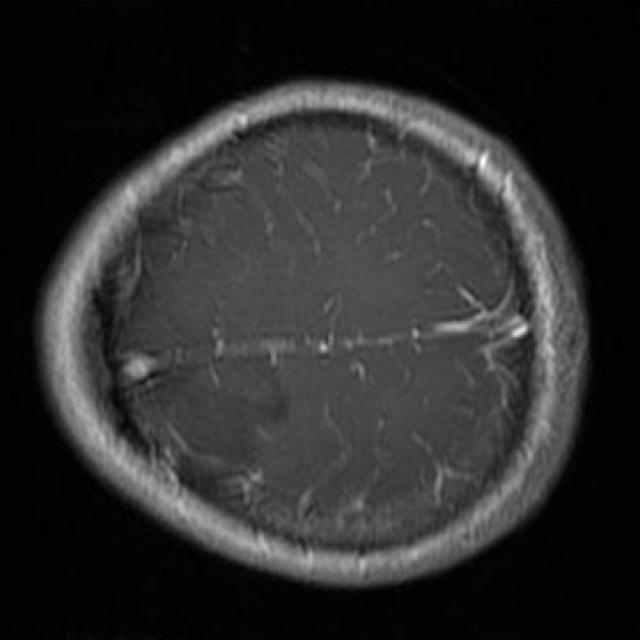glioma: (148, 365, 289, 472)
